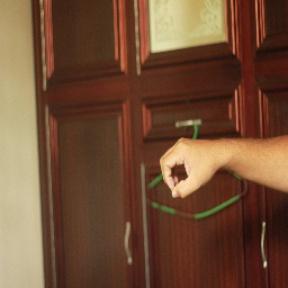O: (156, 132, 221, 201)
